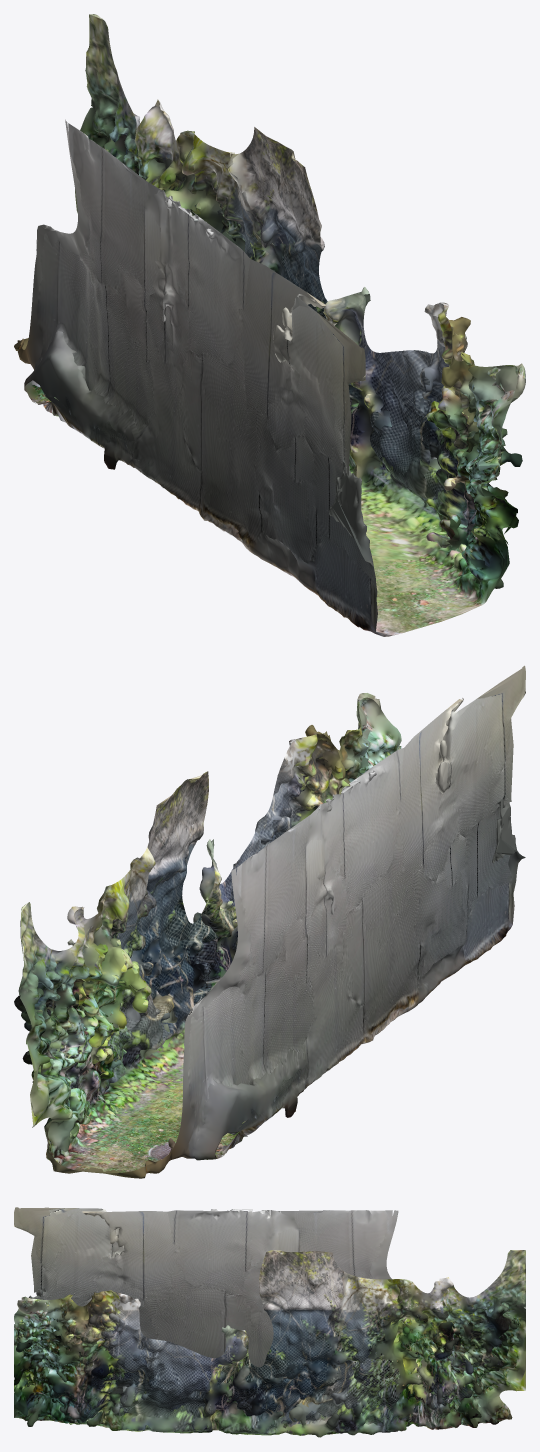
File: Gang.obj
The picture shows the model from 3 angles, top to bottom: view 1: azimuth 30°, elevation 25°; view 2: azimuth 150°, elevation 25°; view 3: azimuth 270°, elevation 25°; orthographic projection. The views are drawn at different scales.
Parts seen in each view (by area): view 1: Object; view 2: Object; view 3: Object.
Part boxes in pixels (x1,y1,x2,y2): Object: [14, 14, 525, 636]; Object: [14, 665, 525, 1178]; Object: [14, 1207, 525, 1437].
Bounding box in the file's own units: 2.23 × 3.61 × 8.84.
